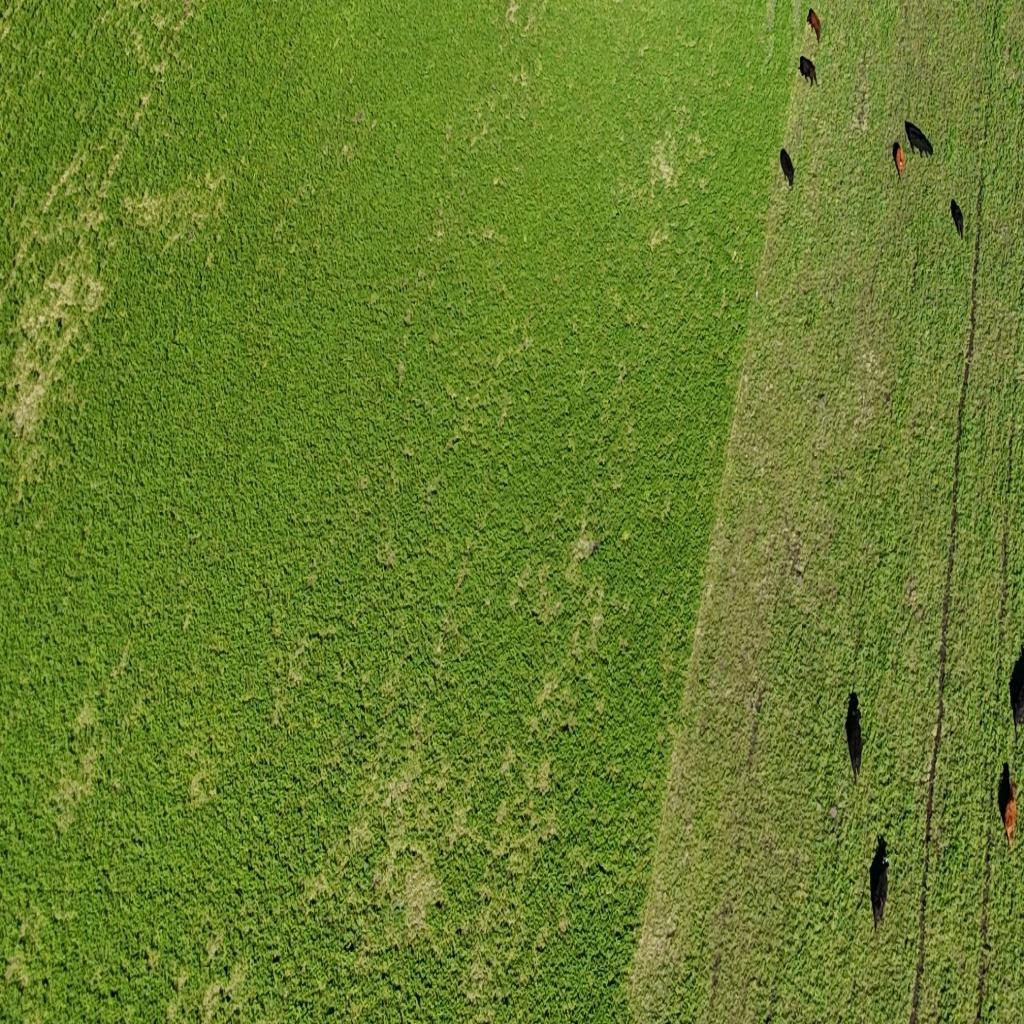cow: (868, 830, 891, 934), (993, 754, 1017, 853), (844, 700, 865, 780), (1006, 642, 1024, 735), (904, 119, 934, 159), (798, 56, 820, 88), (780, 148, 794, 188), (950, 198, 964, 238), (807, 8, 821, 46), (892, 140, 906, 178)
